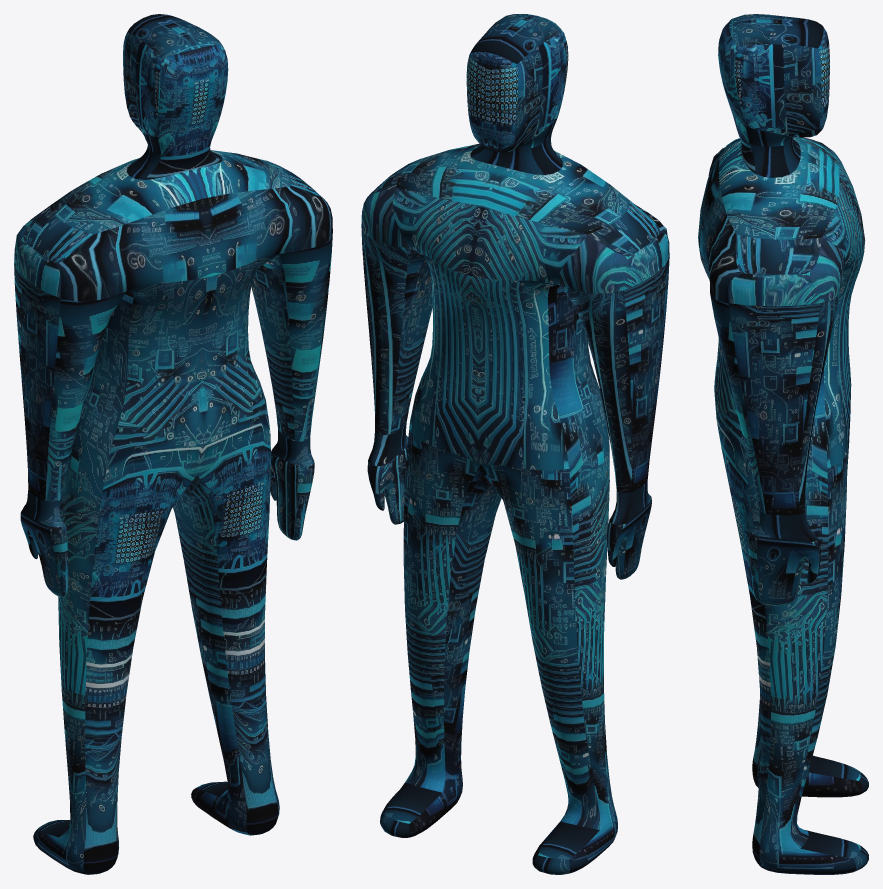
Rendered from EnemyV2.fbx.
3 renders of one model, left to right at view 1: azimuth 30°, elevation 25°; view 2: azimuth 150°, elevation 25°; view 3: azimuth 270°, elevation 25°, orthographic. The views are drawn at different scales.
Visible parts, largest first — view 1: Cube; view 2: Cube; view 3: Cube.
Part boxes in pixels (x1=…): Cube: x1=14, y1=14, x2=332, y2=874; Cube: x1=361, y1=14, x2=669, y2=874; Cube: x1=698, y1=14, x2=868, y2=874.
Size of the model in its own units: 125 by 343 by 65.65.
1 material, 1 textured.
